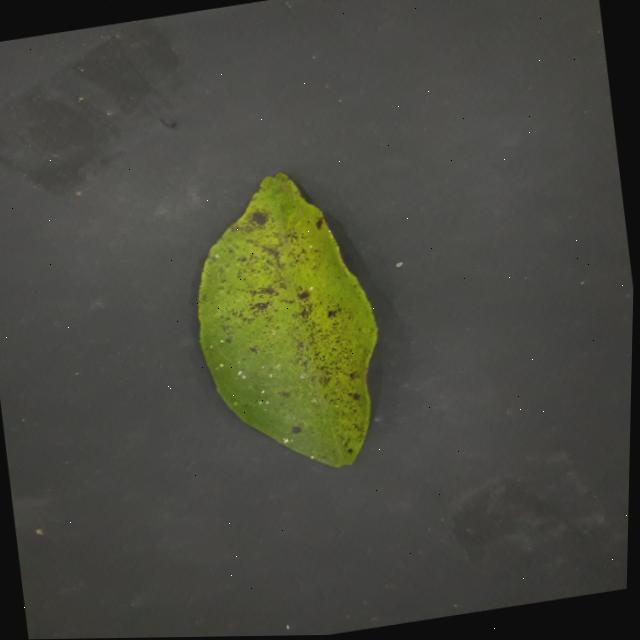greasy_spot: (198, 174, 376, 467)
